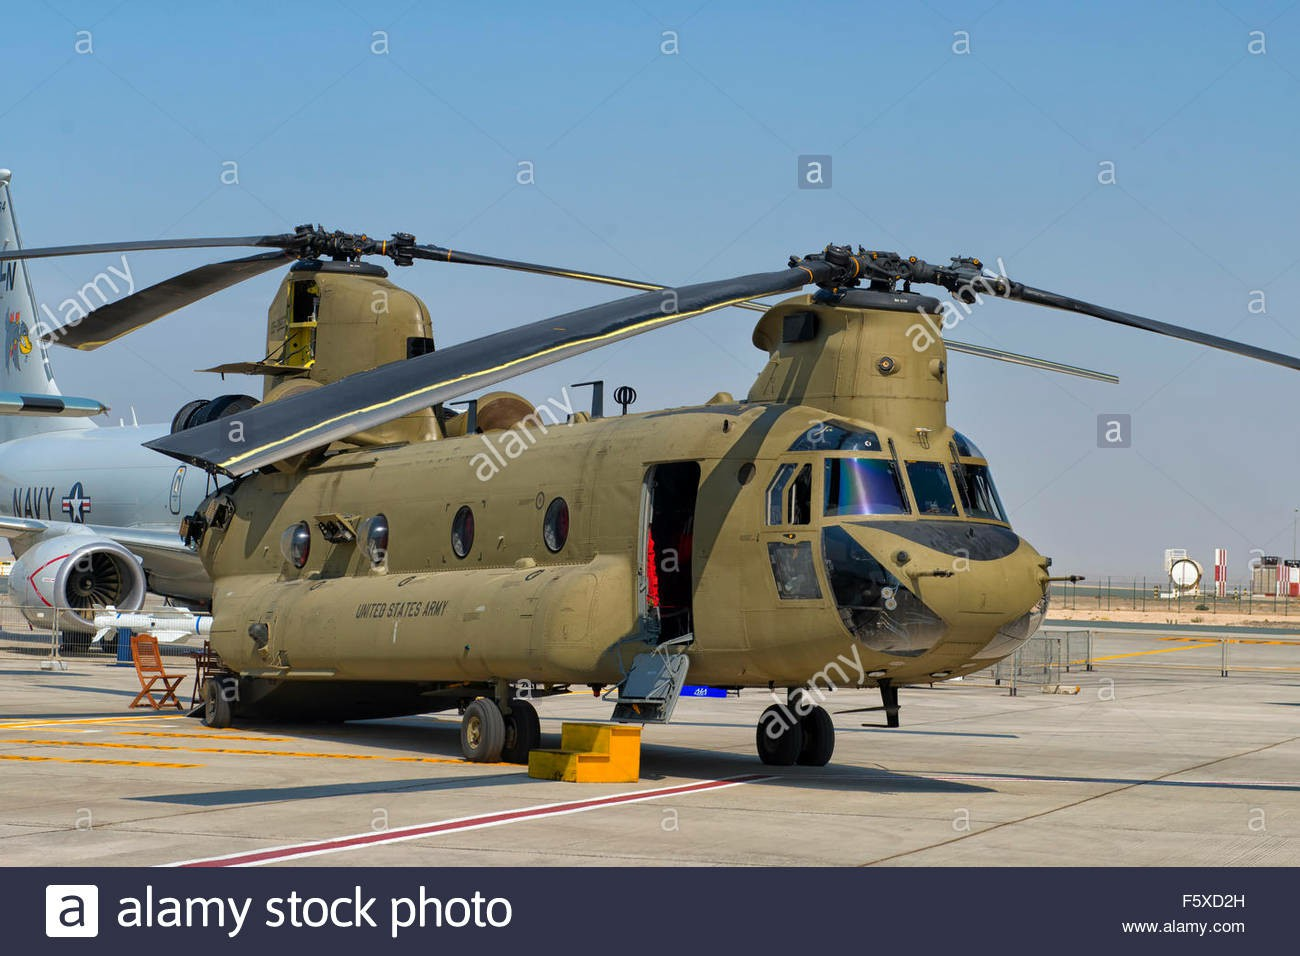chinook: (51, 217, 1233, 728)
